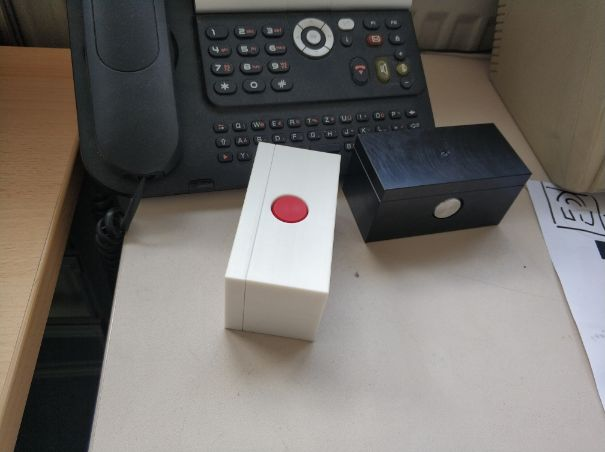black+black+silver: (339, 123, 534, 248)
white+white+red: (219, 141, 346, 345)
